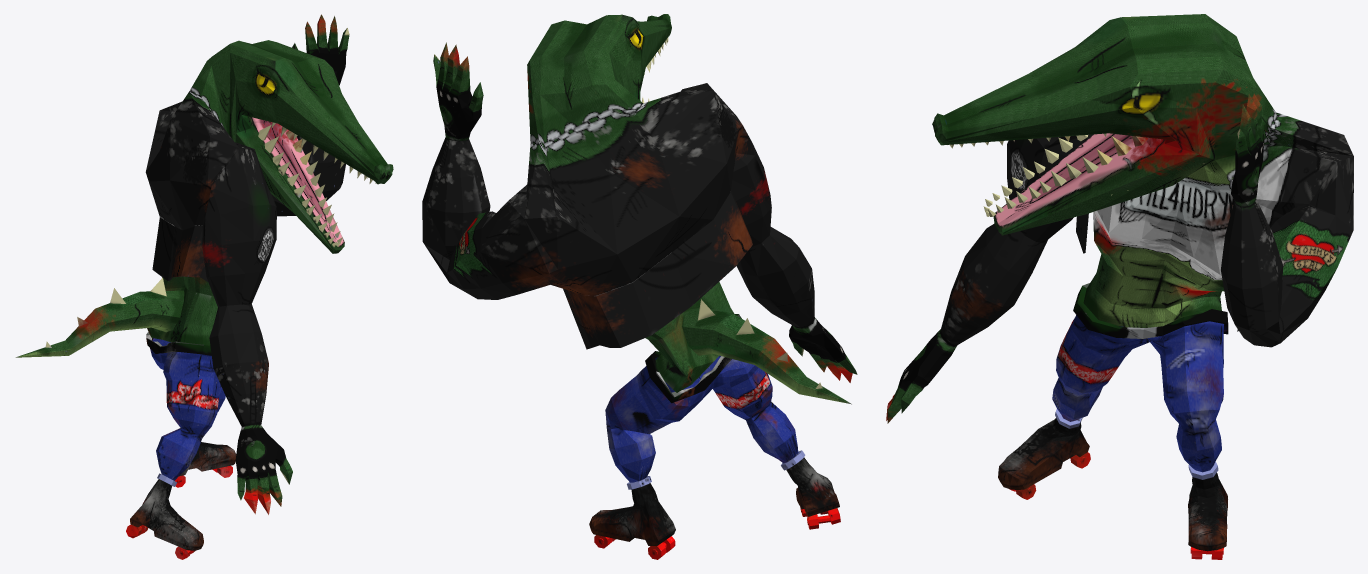
File: cocodrilaBonesSelect_000018.obj
The picture shows the model from 3 angles, left to right: view 1: azimuth 30°, elevation 25°; view 2: azimuth 150°, elevation 25°; view 3: azimuth 270°, elevation 25°; orthographic projection. The views are drawn at different scales.
Visible parts, largest first — view 1: Crocodile.002_Cylinder.002; view 2: Crocodile.002_Cylinder.002; view 3: Crocodile.002_Cylinder.002.
Part boxes in pixels (x1,y1,x2,y2): Crocodile.002_Cylinder.002: (15, 14, 393, 559); Crocodile.002_Cylinder.002: (422, 14, 857, 559); Crocodile.002_Cylinder.002: (886, 14, 1353, 559).
Size of the model in its own units: 5.21 by 6.17 by 4.69.
